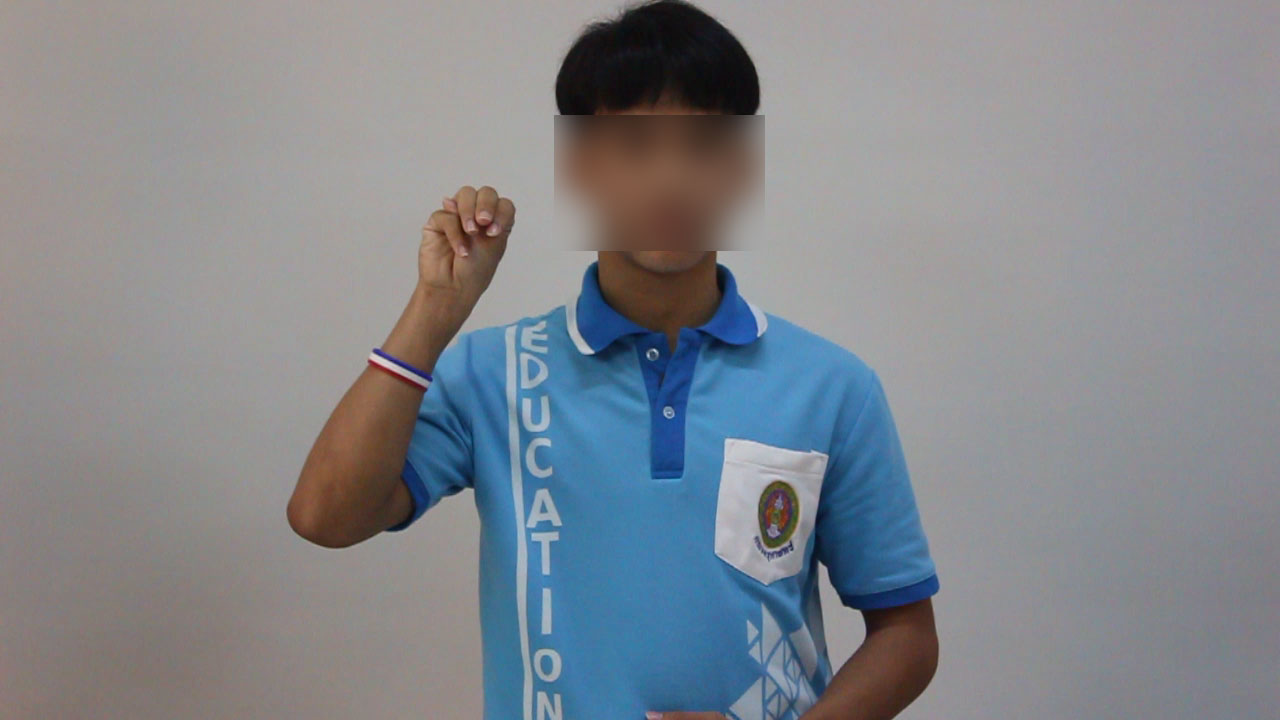mor: (400, 166, 522, 315)
